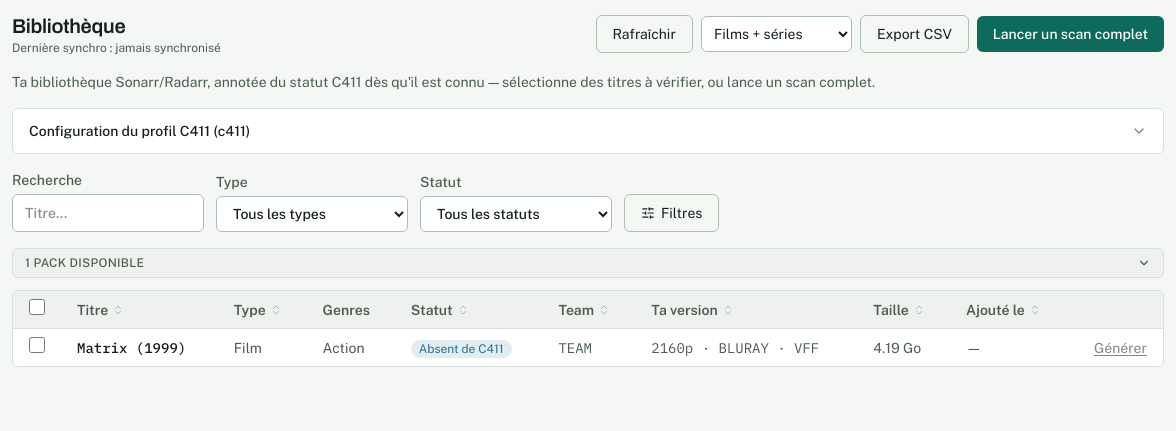
Test: LibraryPage › affiche le bloc packs REPLIE par defaut, deplie au clic (retour utilisateur, 2026-09-13 : trop de place)
This screenshot has width=1176, height=431.
Check: the text "Lucifer — INTEGRALE (Frosties)" is not shown
Click the button "1 pack disponible": (48, 263) [13, 249, 1163, 277]
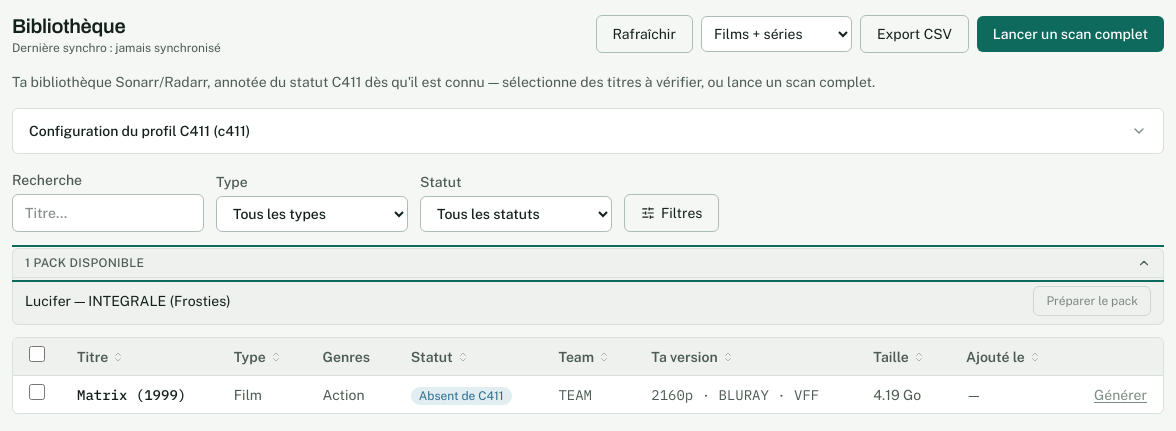
Check: the text "Lucifer — INTEGRALE (Frosties)" is shown, box [25, 291, 230, 311]
